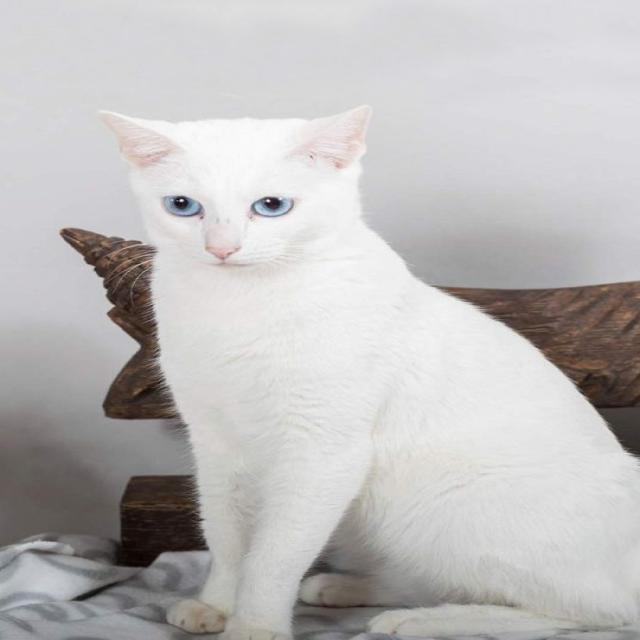Khao Manee: (93, 97, 640, 640)
